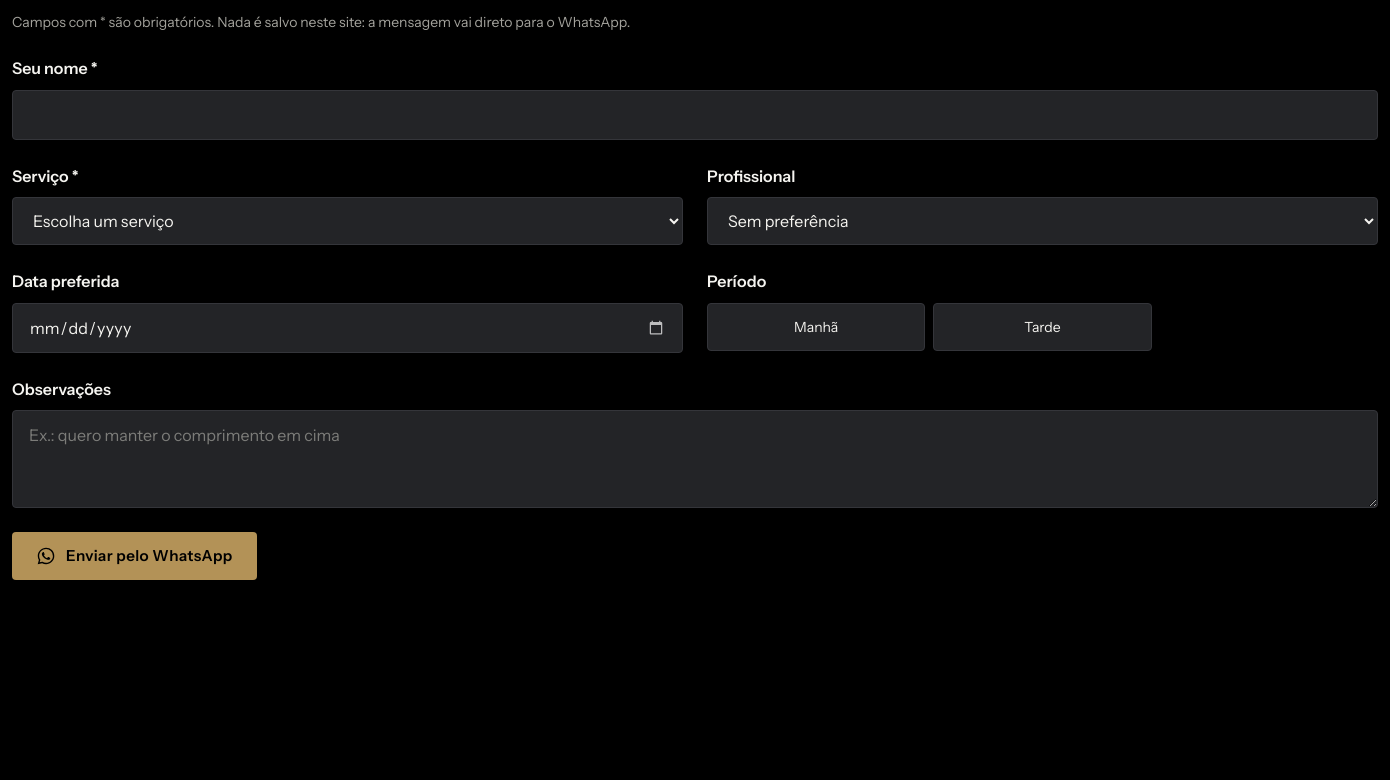
Test: BookingForm › abre o WhatsApp com a mensagem montada a partir do formulário
Type "João" into the field labelled "Seu nome *" at [695, 115], box [12,90,1378,140]
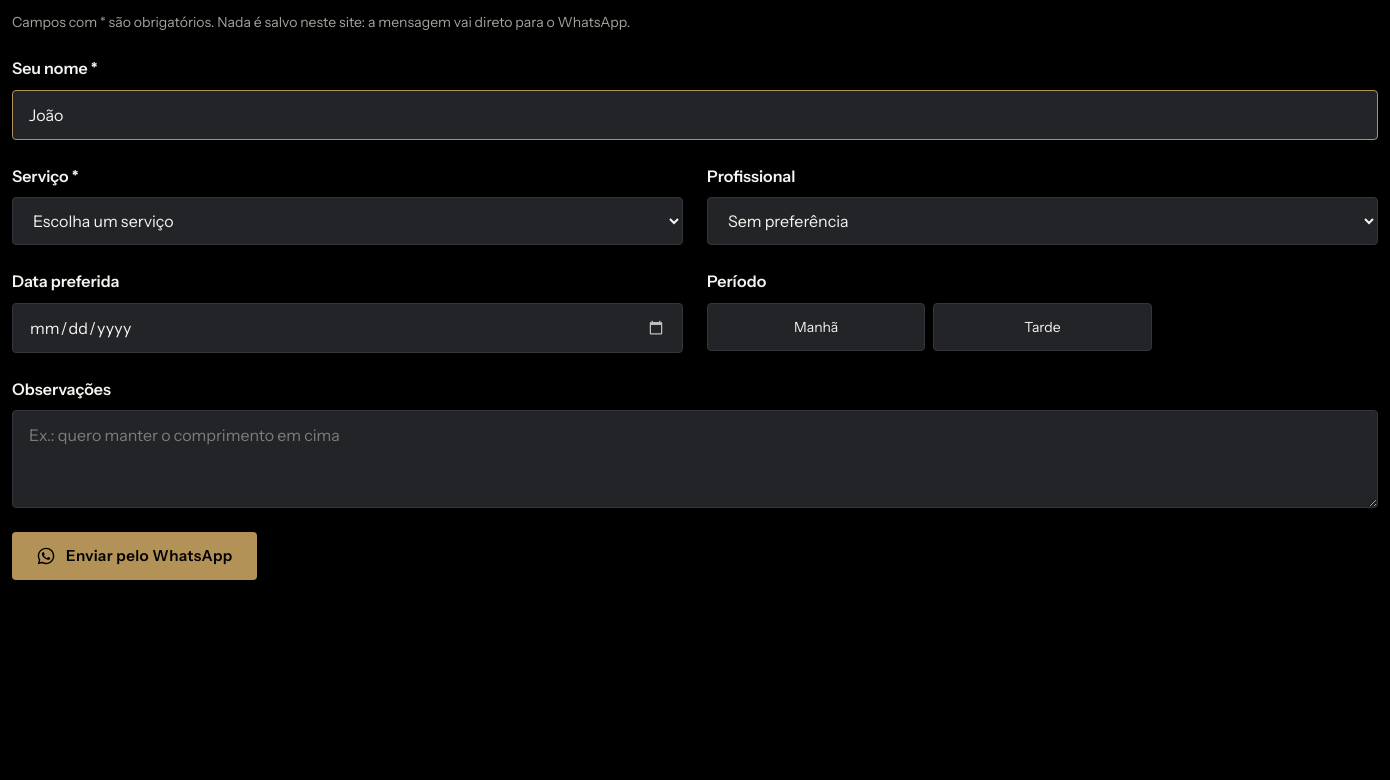
Select "Degradê · R$ 50 · 45 min" in the dropdown labelled "Serviço *" at [348, 221], box [12,197,683,245]
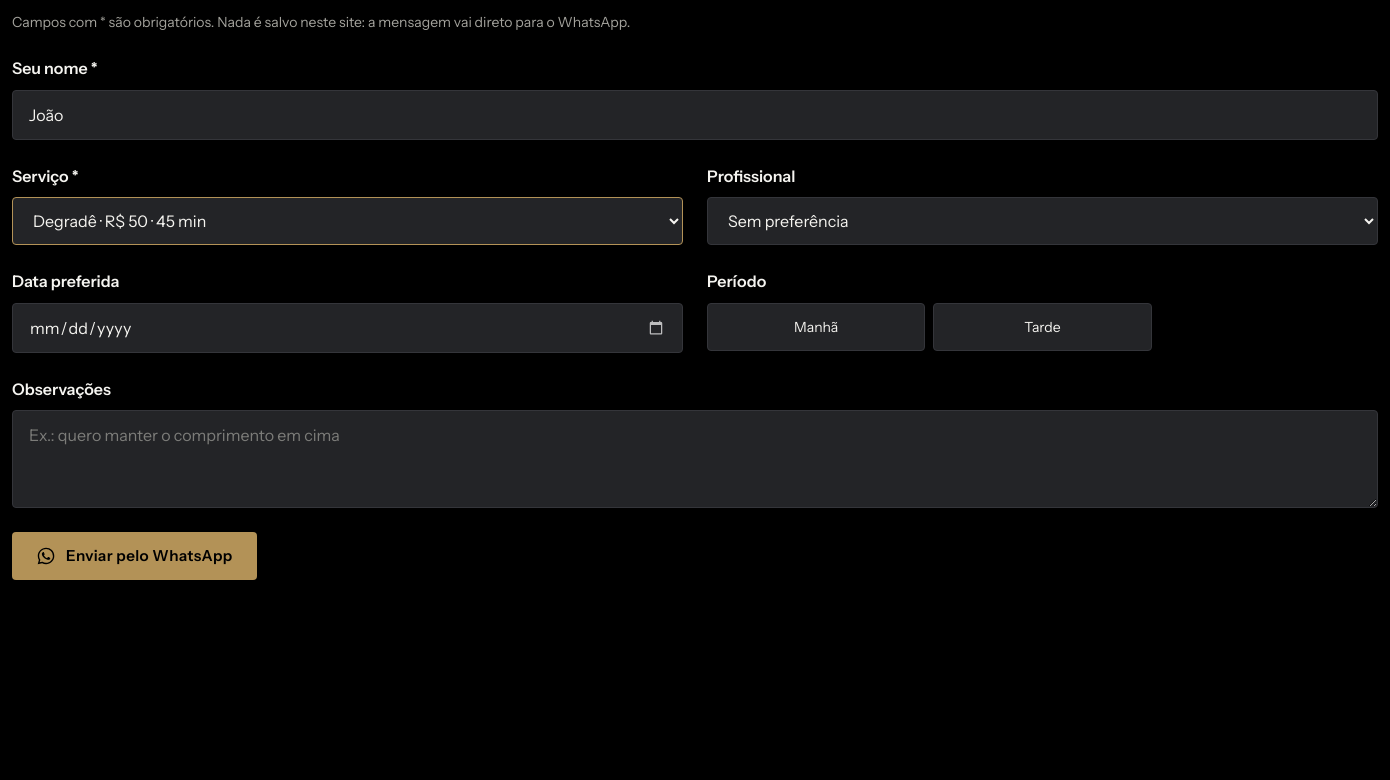
Select "Lucas" in the dropdown labelled "Profissional" at [1042, 221], box [707,197,1378,245]
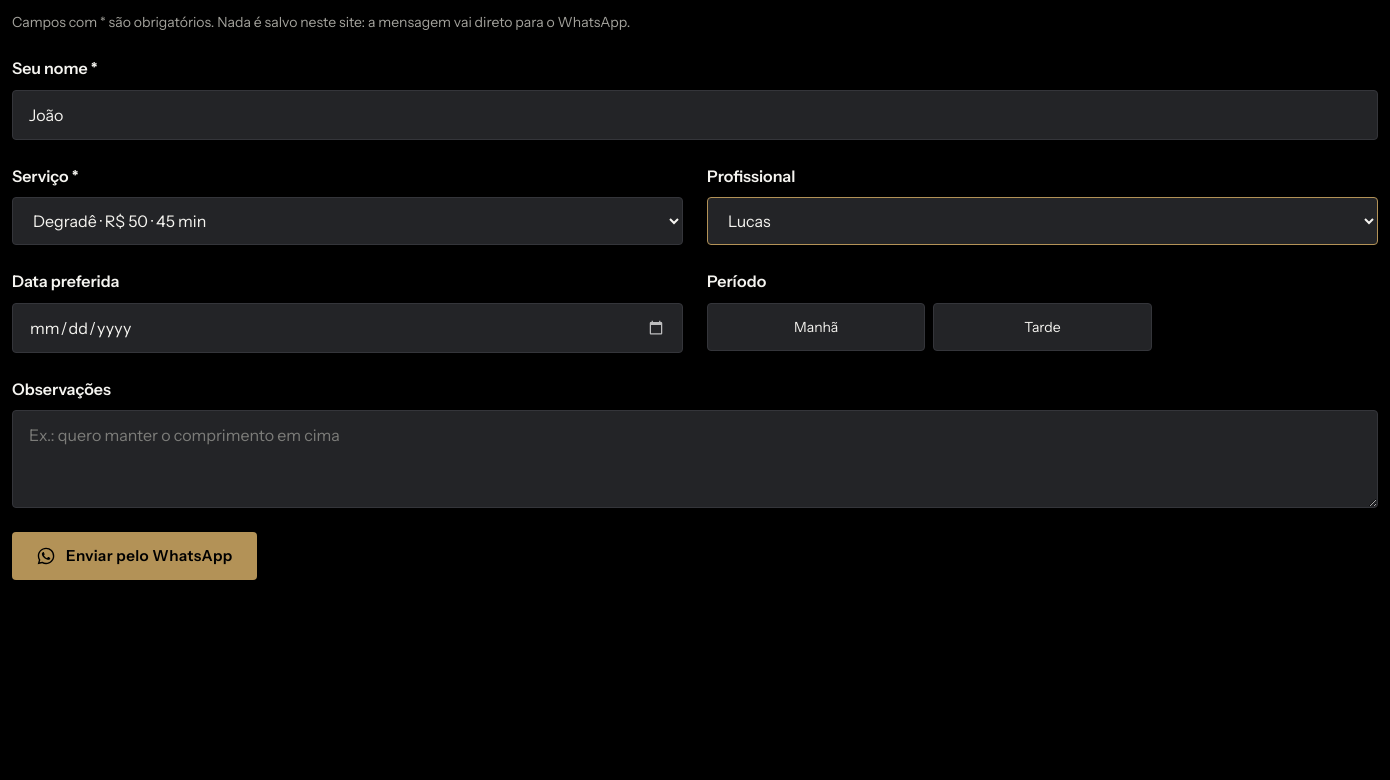
Click the radio button labelled "Tarde" at [1042, 327], box [933,303,1152,351]
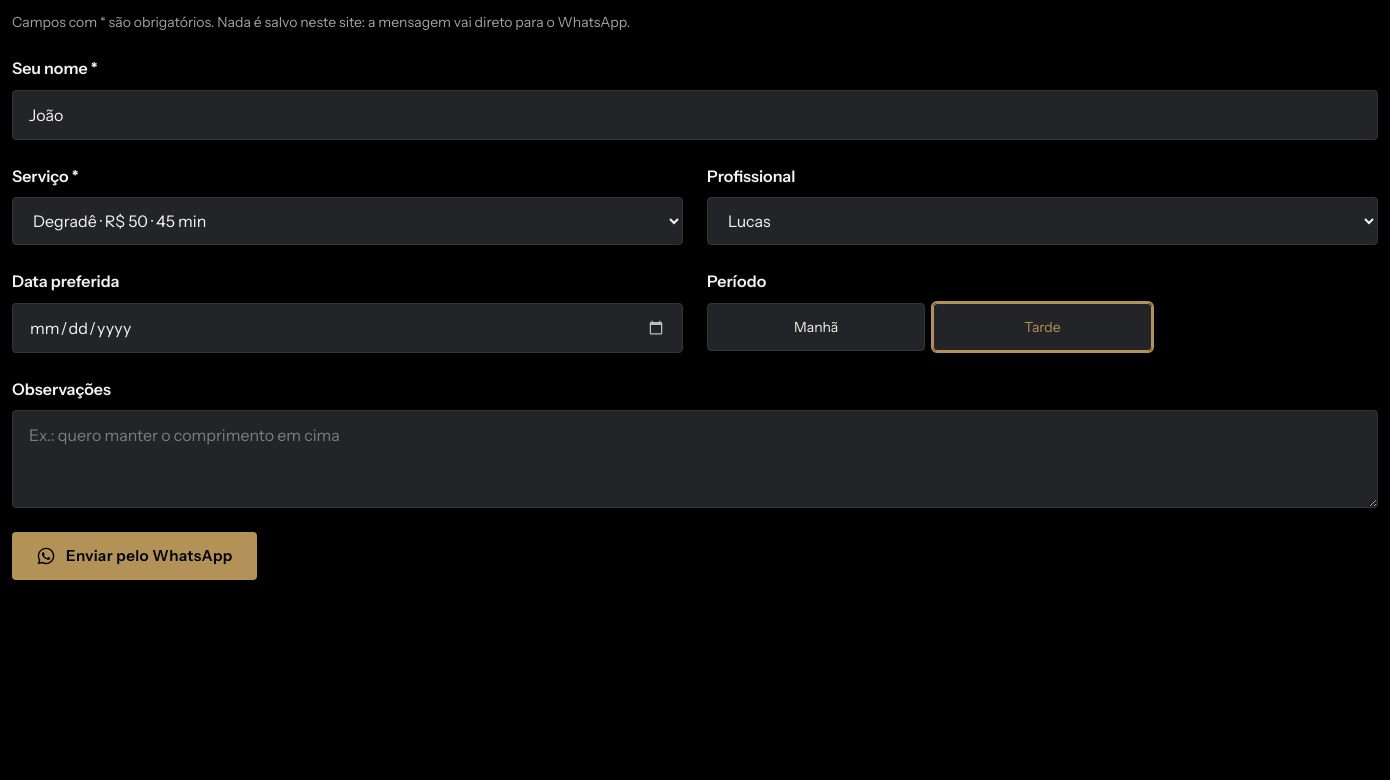
Click the button "Enviar pelo WhatsApp" at [134, 556], box [12,532,256,580]
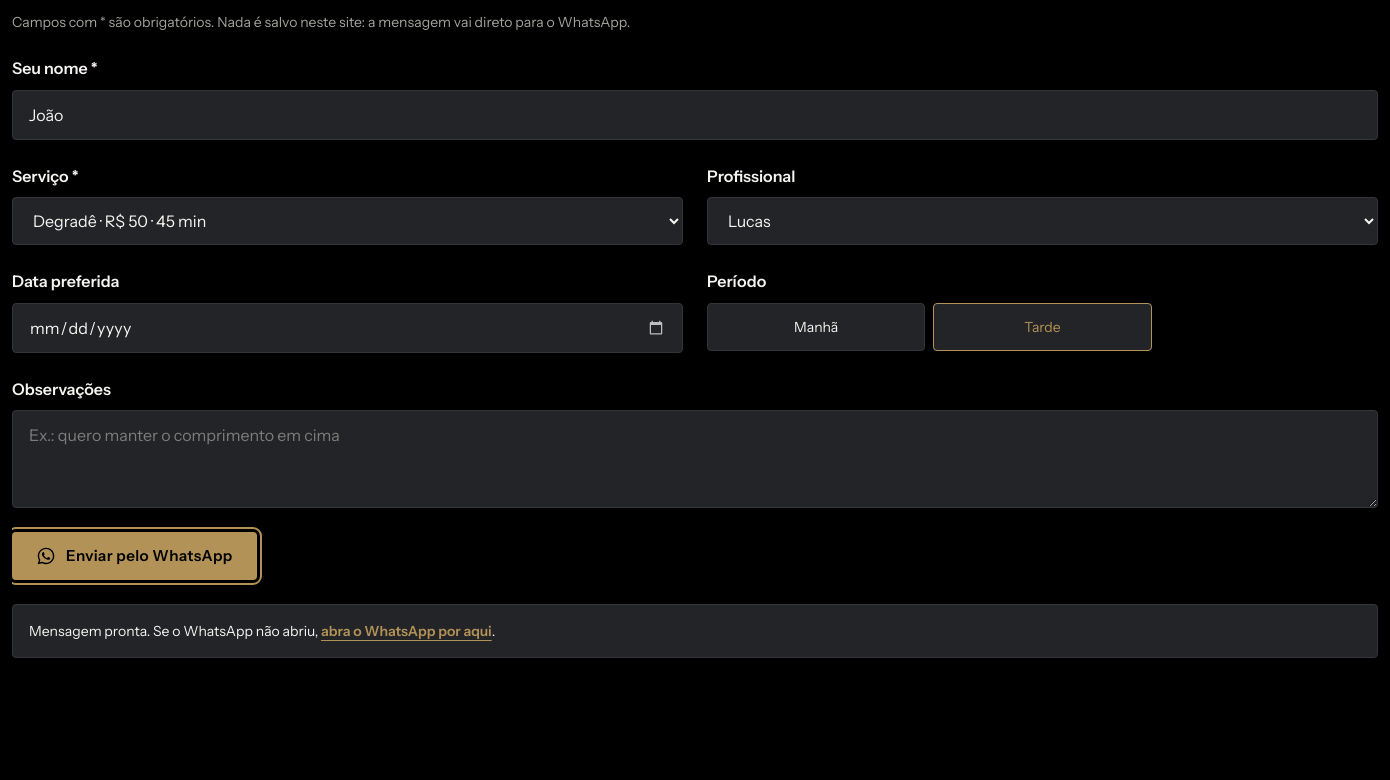
Result: the link "abra o WhatsApp por aqui" is shown at [321,622,492,640]
